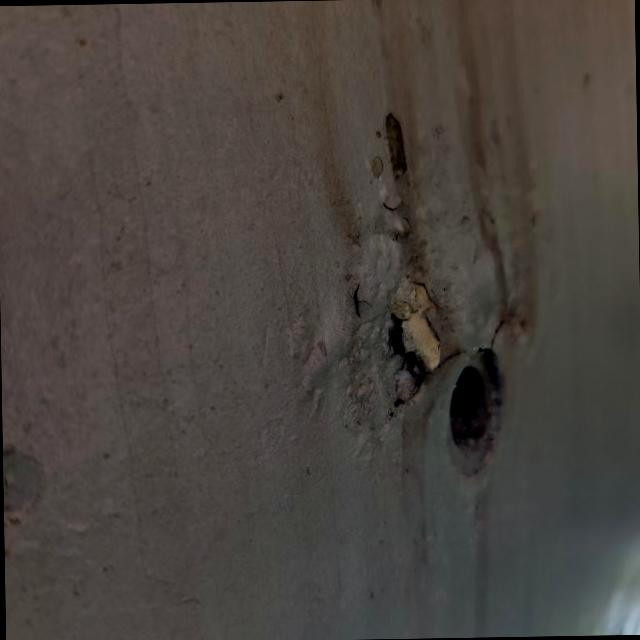crack: (332, 268, 482, 435)
